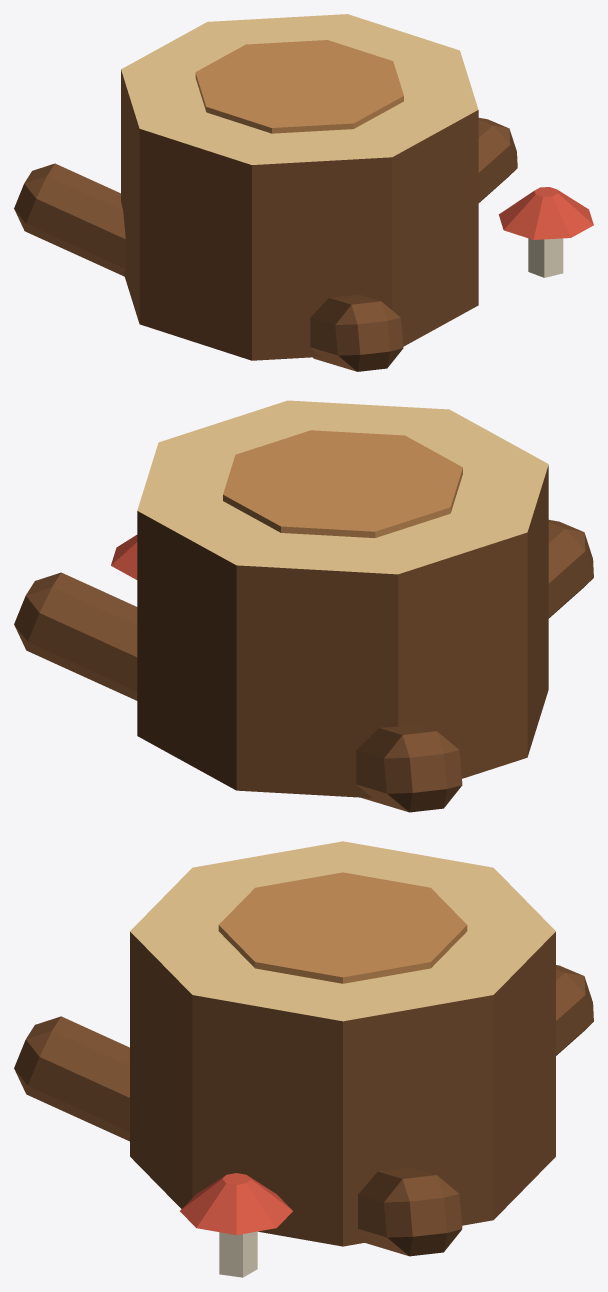
The model's file is stump.fbx.
The picture shows the model from 3 angles, top to bottom: view 1: azimuth 30°, elevation 25°; view 2: azimuth 150°, elevation 25°; view 3: azimuth 270°, elevation 25°; orthographic projection. The views are drawn at different scales.
Parts seen in each view (by area): view 1: stump; view 2: stump; view 3: stump.
Part boxes in pixels (x1,y1,x2,y2): stump: [14, 14, 593, 371]; stump: [14, 400, 593, 812]; stump: [14, 841, 593, 1277].
Size of the model in its own units: 0.1634 by 0.0813 by 0.1634.
